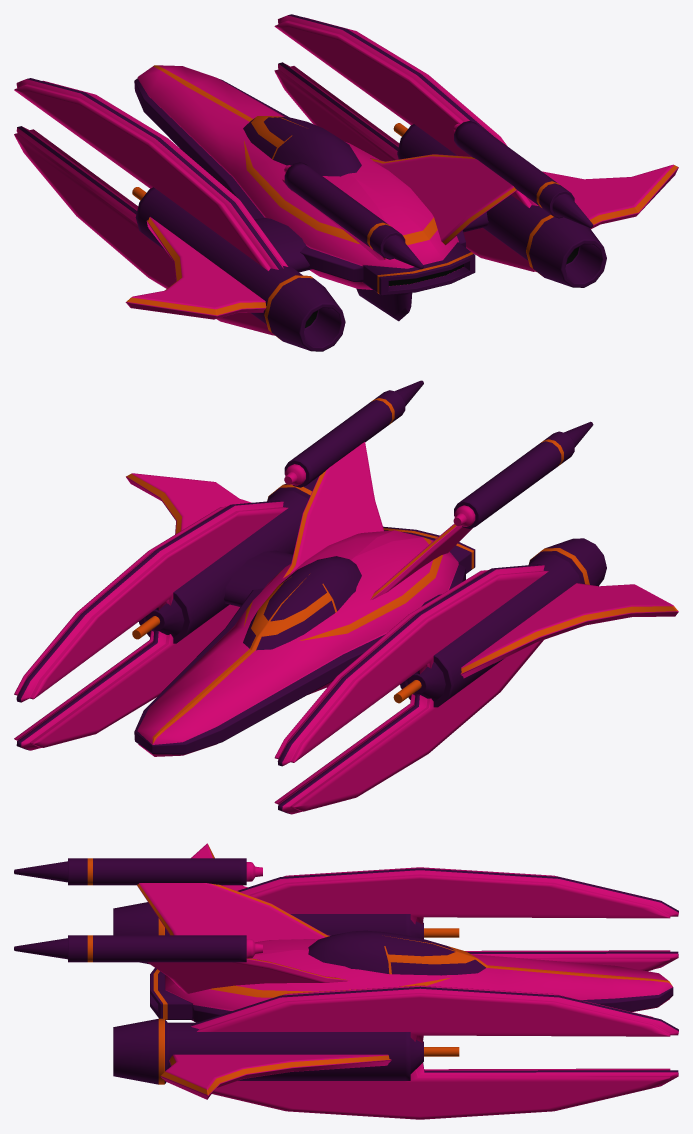
File: AlienStarfighter12.obj
3 views of the same model, one above another, from view 1: azimuth 30°, elevation 25°; view 2: azimuth 150°, elevation 25°; view 3: azimuth 270°, elevation 25° (orthographic). The views are drawn at different scales.
Visible parts, largest first — view 1: Cylinder.003_Cylinder.005, Sphere_Sphere.002, Cylinder.001_Cylinder.006, Cube.002_Cube.003, Cylinder.005_Cylinder.011, Cube.003_Cube.004, Sphere.001_Sphere.003, Cylinder, Cylinder.006_Cylinder.007; view 2: Cylinder.003_Cylinder.005, Sphere_Sphere.002, Cylinder.001_Cylinder.006, Cube.002_Cube.003, Cylinder.005_Cylinder.011, Cube.003_Cube.004, Sphere.001_Sphere.003, Cylinder; view 3: Cylinder.003_Cylinder.005, Cylinder.001_Cylinder.006, Sphere_Sphere.002, Cylinder.005_Cylinder.011, Cube.003_Cube.004, Sphere.001_Sphere.003, Cube.002_Cube.003.
Boxes of the visible parts, left/top/right/bottom form: Cylinder.003_Cylinder.005: left=14, top=14, right=538, bottom=335; Sphere_Sphere.002: left=134, top=65, right=475, bottom=295; Cylinder.001_Cylinder.006: left=132, top=123, right=606, bottom=351; Cube.002_Cube.003: left=125, top=164, right=678, bottom=319; Cylinder.005_Cylinder.011: left=284, top=121, right=593, bottom=269; Cube.003_Cube.004: left=282, top=154, right=517, bottom=260; Sphere.001_Sphere.003: left=243, top=116, right=361, bottom=176; Cylinder: left=254, top=212, right=488, bottom=272; Cylinder.006_Cylinder.007: left=356, top=288, right=412, bottom=321; Cylinder.003_Cylinder.005: left=14, top=500, right=548, bottom=814; Sphere_Sphere.002: left=134, top=526, right=475, bottom=756; Cylinder.001_Cylinder.006: left=132, top=476, right=606, bottom=707; Cube.002_Cube.003: left=126, top=473, right=678, bottom=678; Cylinder.005_Cylinder.011: left=284, top=380, right=593, bottom=528; Cube.003_Cube.004: left=282, top=442, right=472, bottom=600; Sphere.001_Sphere.003: left=243, top=556, right=361, bottom=650; Cylinder: left=224, top=550, right=441, bottom=606; Cylinder.003_Cylinder.005: left=191, top=867, right=678, bottom=1119; Cylinder.001_Cylinder.006: left=113, top=902, right=459, bottom=1084; Sphere_Sphere.002: left=150, top=939, right=673, bottom=1022; Cylinder.005_Cylinder.011: left=14, top=858, right=262, bottom=962; Cube.003_Cube.004: left=137, top=883, right=350, bottom=993; Sphere.001_Sphere.003: left=308, top=930, right=488, bottom=975; Cube.002_Cube.003: left=160, top=843, right=391, bottom=1099.
Size of the model in its own units: 6.8 by 2.02 by 7.61.
